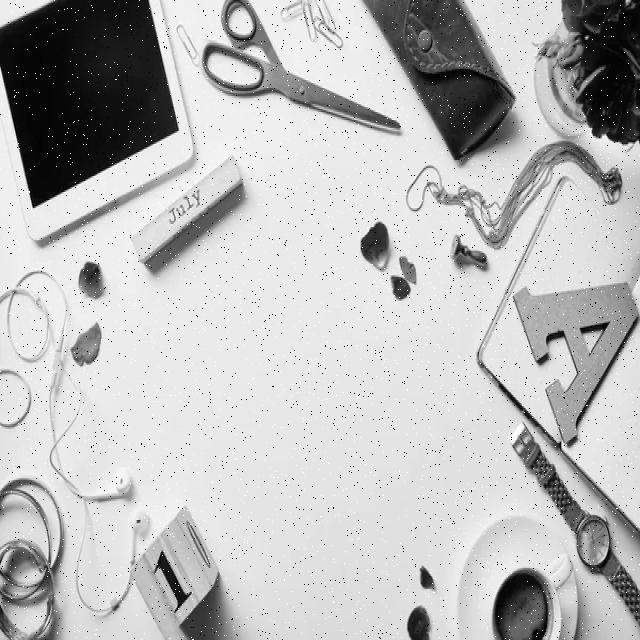scissors: (200, 0, 406, 143)
